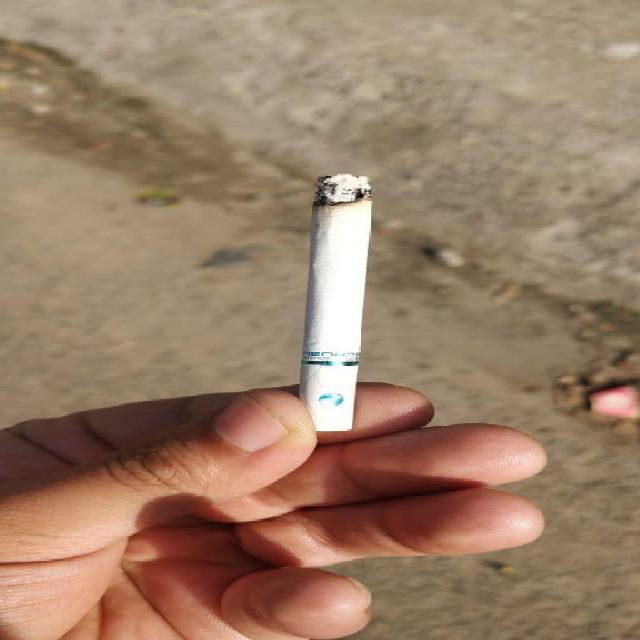cigarette: (300, 174, 373, 436)
